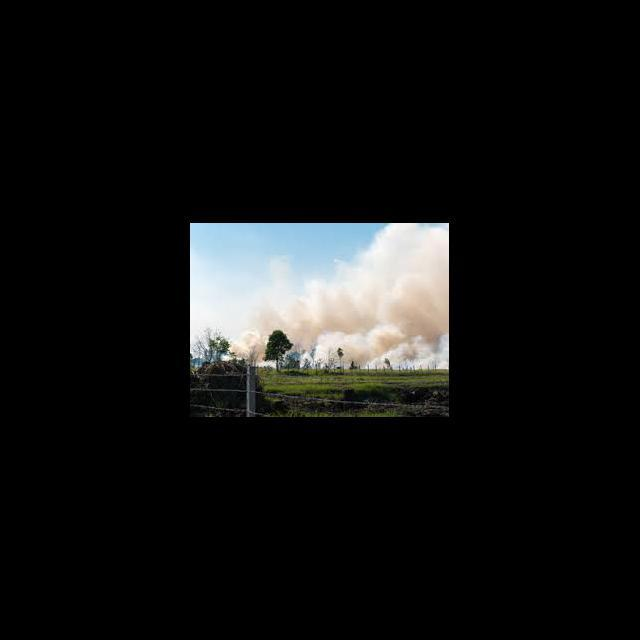Smoke: (362, 226, 448, 356), (298, 283, 359, 342), (256, 297, 300, 329)
